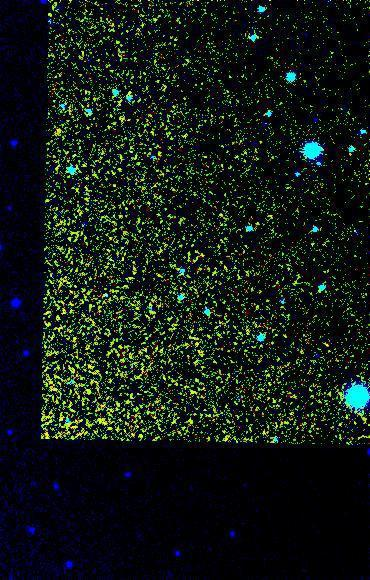star: (42, 112, 72, 142)
